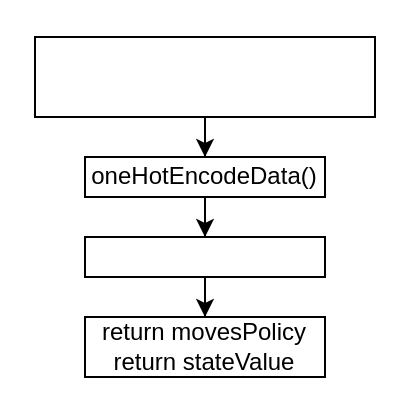
Image size: 410x412. Some labels were removed from this diagram. Here are the shapes that lost their labels. From the top down, the centre of each, then its label:
(204,76): getBoardPositions getPlayerTickets getNumOfRoundsSinceReveal
(204,256): nnet.predict(data)
